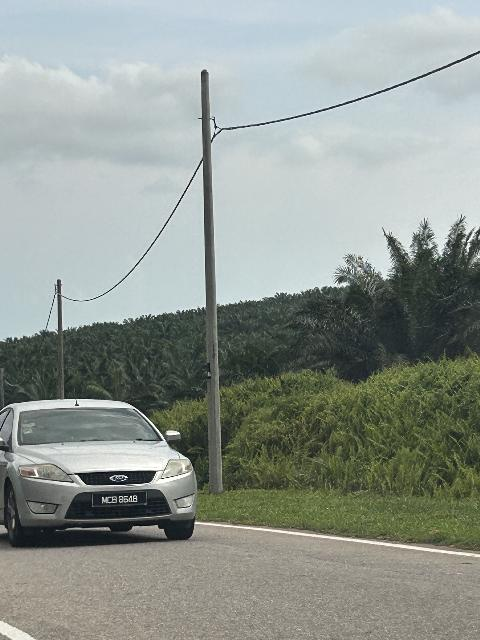License_Plate: (92, 494, 148, 508)
car: (1, 399, 205, 554)
